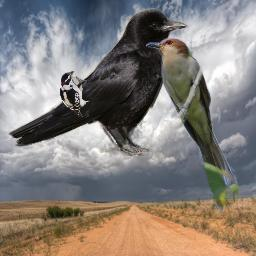Crow: (7, 8, 189, 156)
Cuckoo: (146, 37, 239, 214)
Woodpecker: (60, 71, 90, 117)
